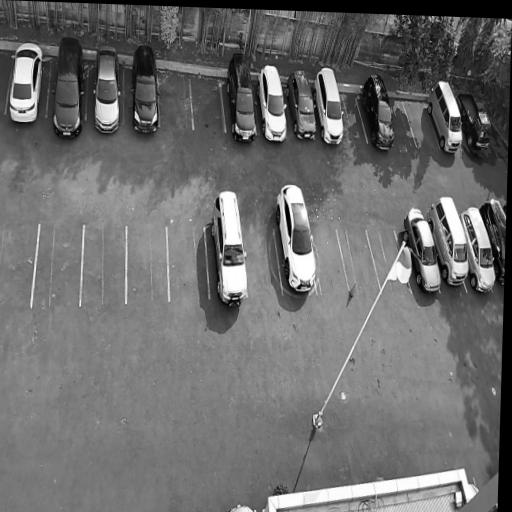Car: (272, 180, 318, 296), (209, 186, 250, 305), (398, 201, 445, 298), (425, 190, 469, 288), (50, 35, 86, 141), (459, 202, 498, 294), (7, 39, 46, 126), (223, 49, 257, 145), (424, 78, 463, 159), (359, 70, 396, 153), (310, 65, 345, 145), (130, 42, 159, 137), (254, 61, 287, 144), (92, 43, 121, 137), (283, 65, 317, 143), (478, 197, 506, 286), (456, 87, 492, 153), (224, 504, 256, 512)
Space Available: (32, 223, 83, 307), (82, 225, 125, 305), (127, 226, 168, 305), (168, 224, 209, 301), (0, 223, 38, 305), (243, 228, 282, 294), (337, 230, 380, 289), (311, 228, 348, 288), (366, 229, 400, 290), (160, 72, 193, 129), (189, 78, 225, 130), (402, 101, 439, 148), (388, 97, 417, 147), (340, 93, 368, 142)
